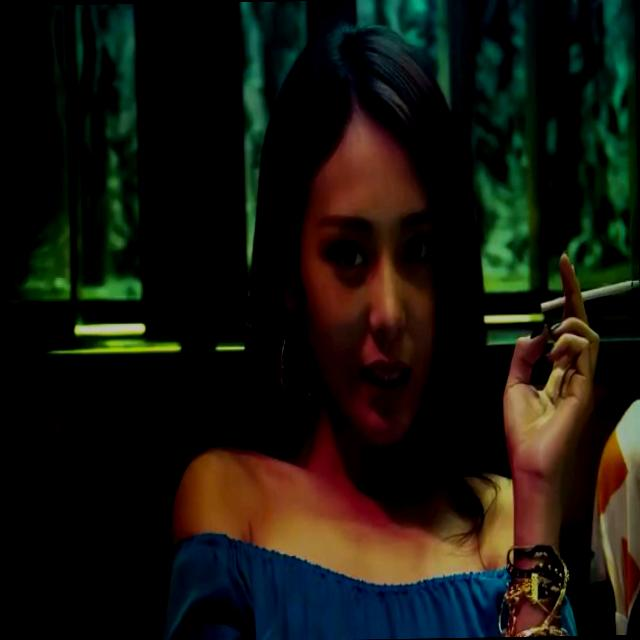smoke: (537, 280, 631, 314)
